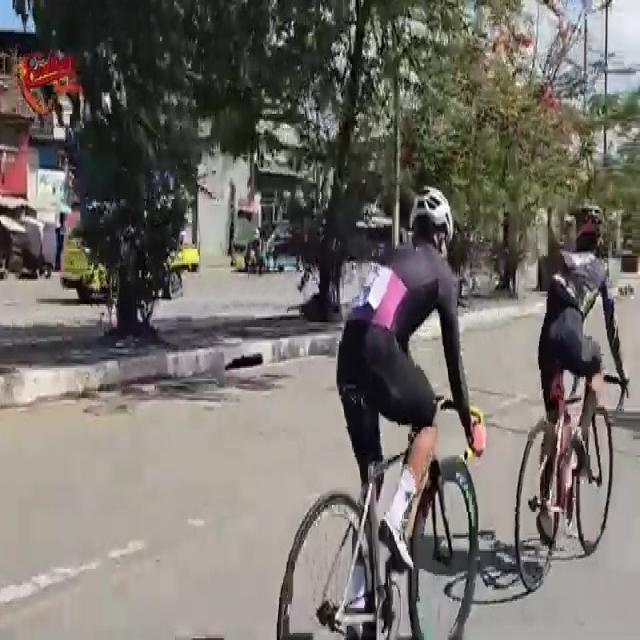bike: (273, 178, 488, 640), (512, 201, 628, 594)
